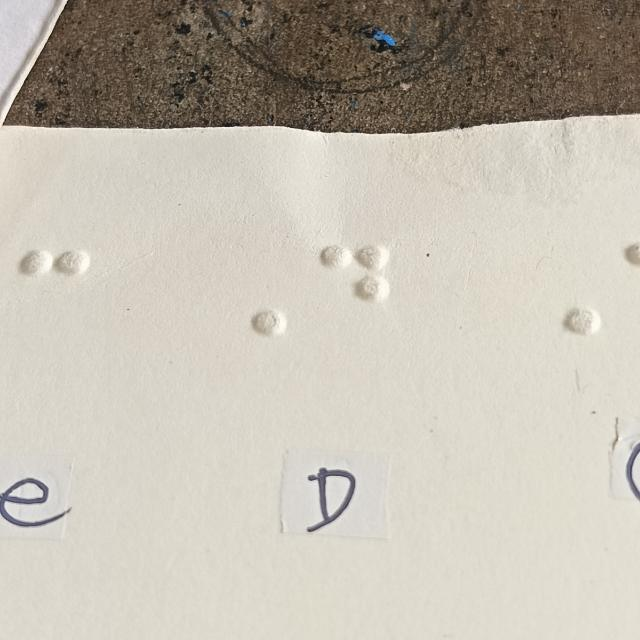D: (321, 242, 386, 337)
capital: (220, 246, 289, 340)
